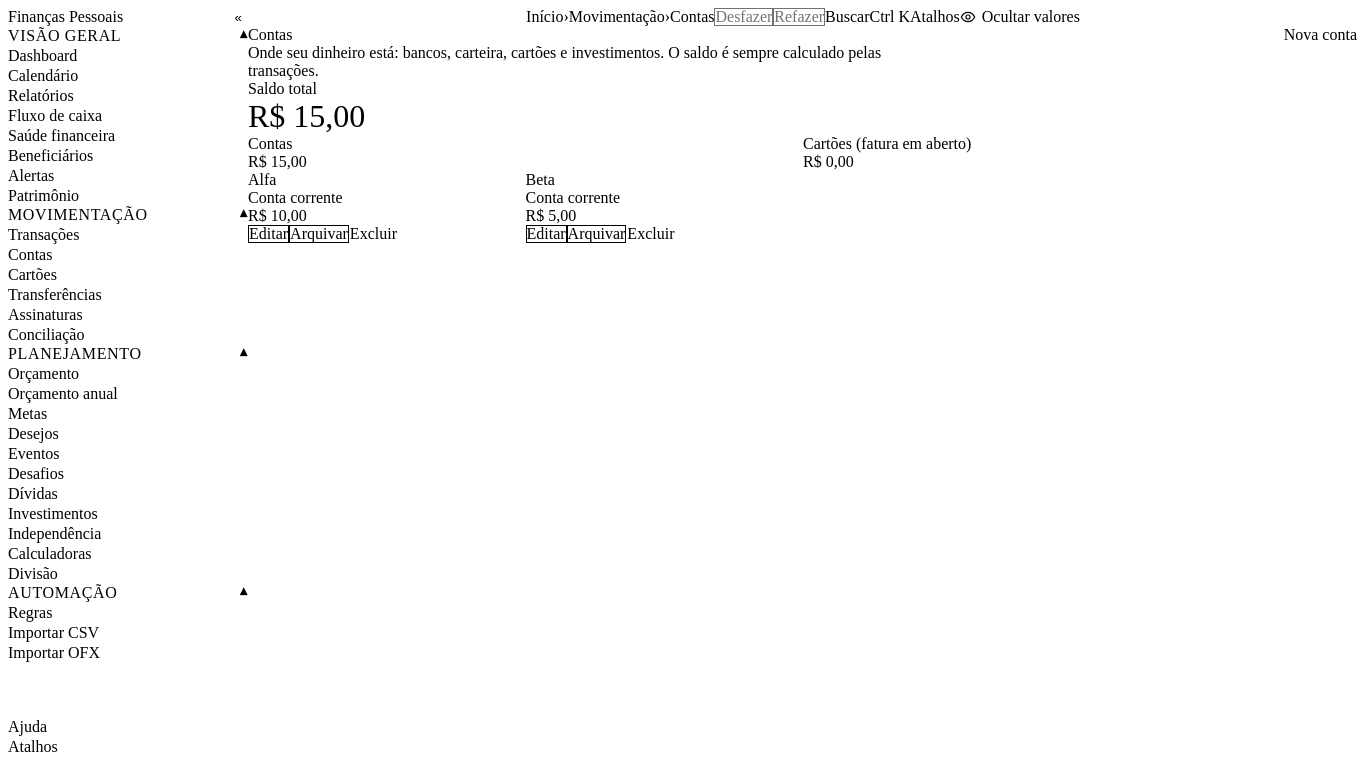
Test: contas: tela › critério 8: arquivar move a conta para a lista de arquivadas e a tira do total
Expected: the text with test id "saldo-total" reads "R$ 15,00", x1=248 y1=98 x2=365 y2=134
Click the button with aria-label "Arquivar Alfa" at (319, 234), box x1=289 y1=225 x2=349 y2=243
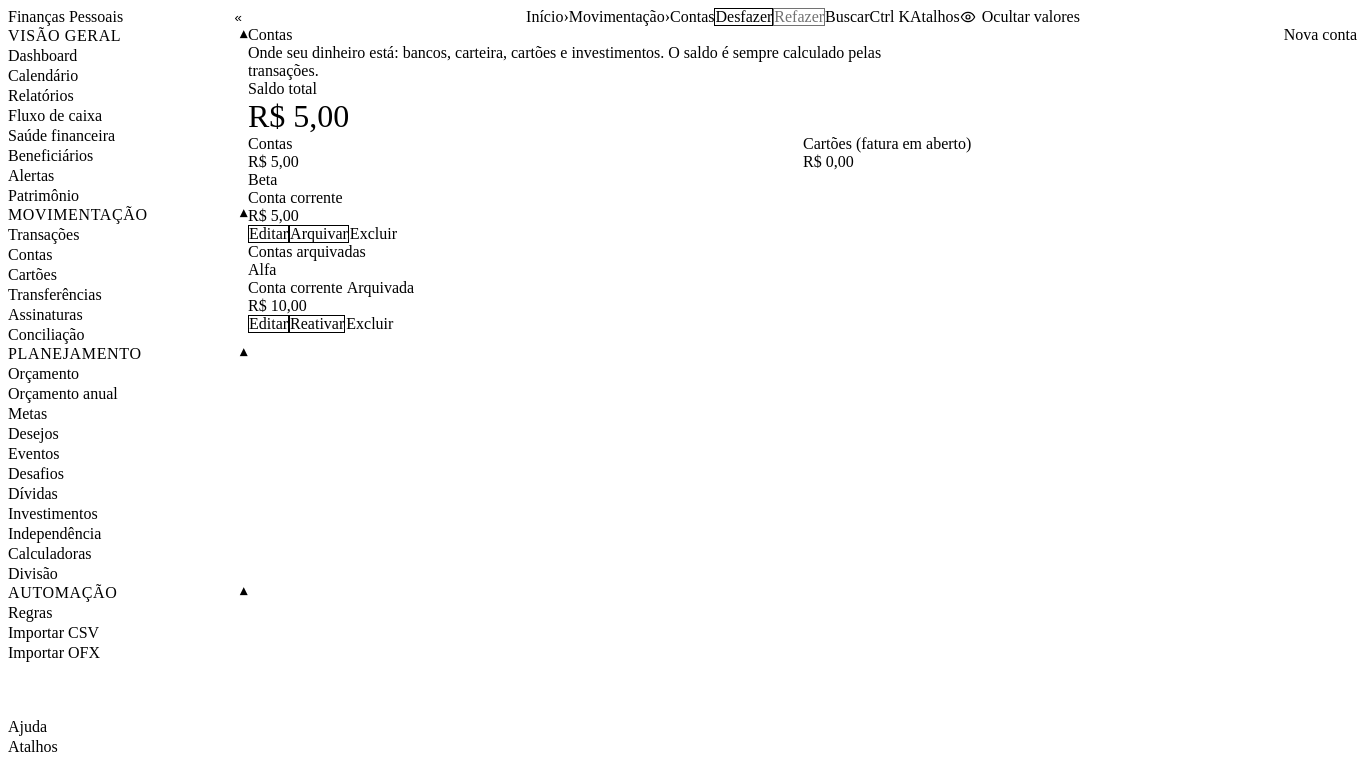
Expected: the text with test id "saldo-total" reads "R$ 5,00", x1=248 y1=98 x2=349 y2=134
Expected: the heading "Contas arquivadas" is shown, x1=248 y1=243 x2=366 y2=260
Click the button with aria-label "Reativar Alfa" at (317, 324), box x1=289 y1=315 x2=345 y2=333
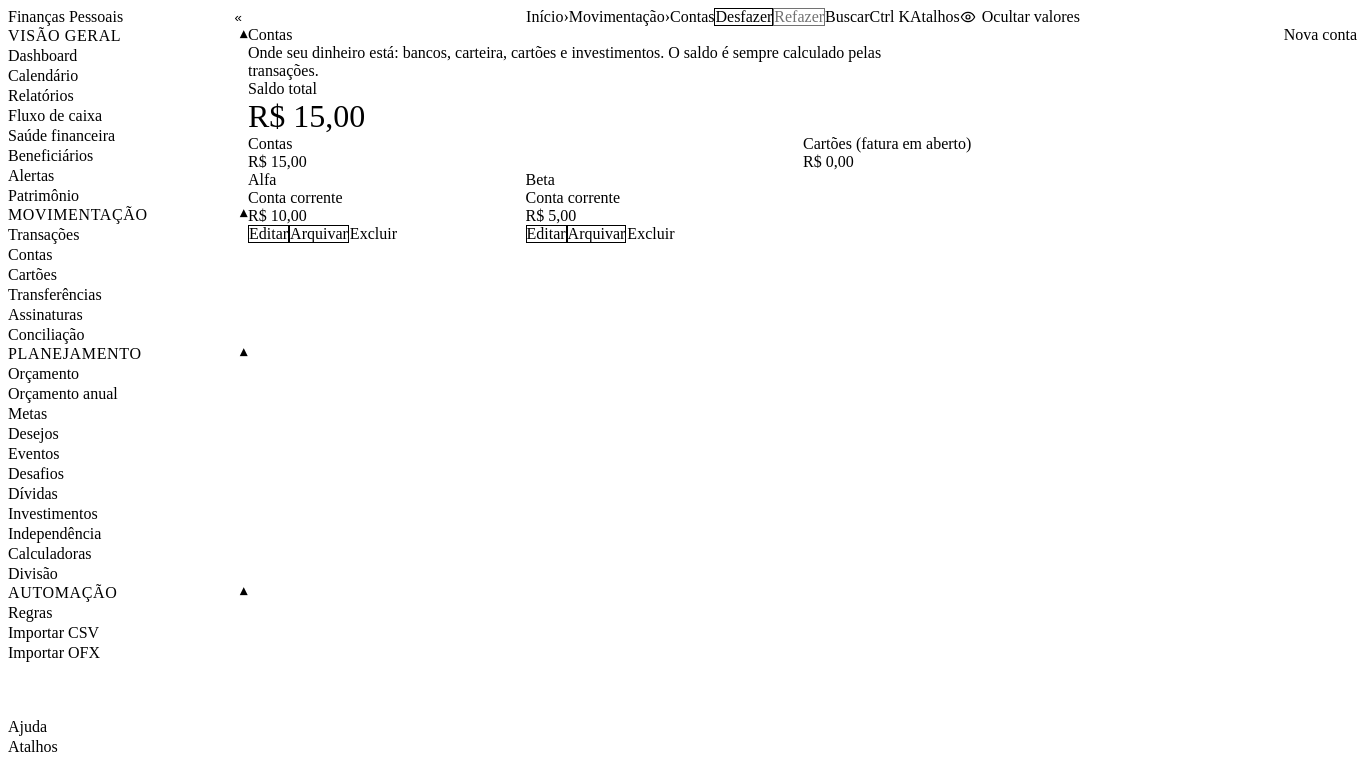
Expected: the heading "Contas arquivadas" is gone
